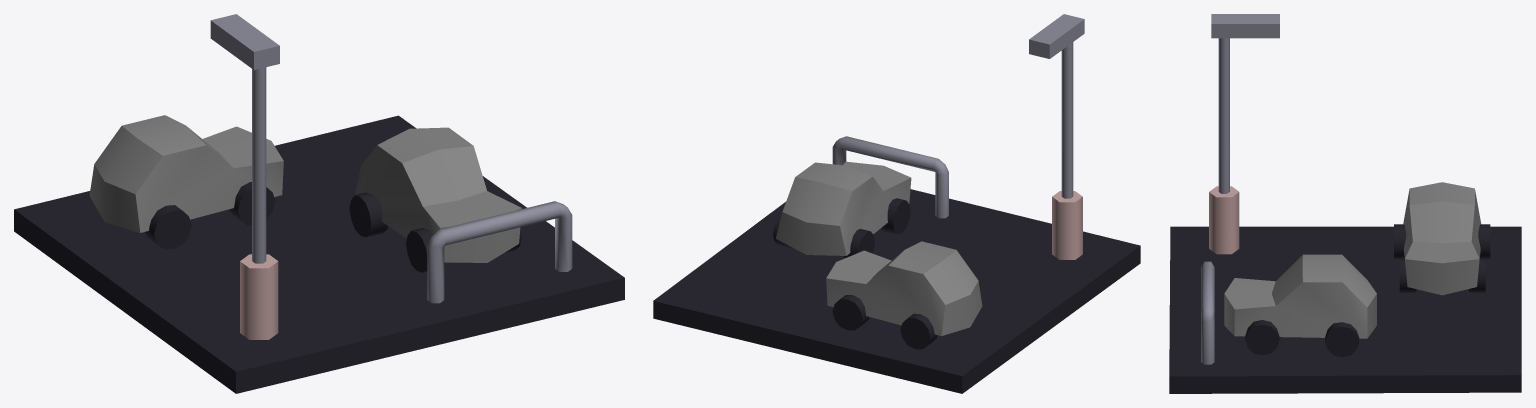
File: Lvl2.fbx
3 views of the same model, side by side, from view 1: azimuth 30°, elevation 25°; view 2: azimuth 150°, elevation 25°; view 3: azimuth 270°, elevation 25° (orthographic). The views are drawn at different scales.
Parts seen in each view (by area): view 1: Lvl2; view 2: Lvl2; view 3: Lvl2.
Boxes of the visible parts, x1=… form: Lvl2: x1=14, y1=14, x2=624, y2=393; Lvl2: x1=653, y1=14, x2=1140, y2=393; Lvl2: x1=1169, y1=14, x2=1521, y2=393.
Bounding box in the file's own units: 286 × 220 × 284.
